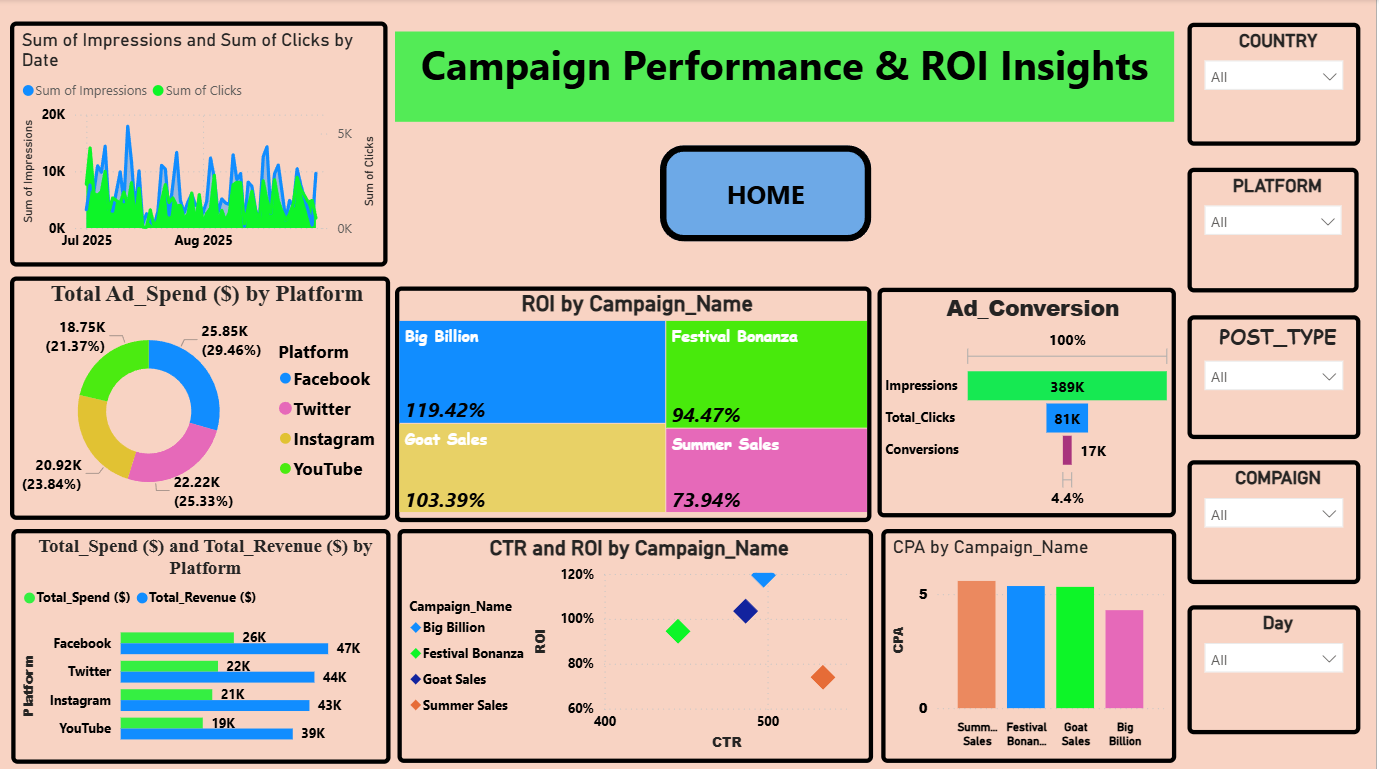

Layout of this report page (visuals, bound fields, positions):
{"tool":"powerbi","page":{"name":"Page 2","canvas":[1280,720],"ordinal":1},"visuals":[{"type":"donutChart","title":"Total Ad_Spend ($) by Platform","fields":{"Y":["Socia_Media_Campaign.Total_Spend ($)"],"Category":["Socia_Media_Campaign.Platform"]},"box":[9.3,258.1,353.5,226.7],"z":1000},{"type":"treemap","fields":{"Group":["Socia_Media_Campaign.Campaign_Name"],"Values":["Socia_Media_Campaign.ROI"]},"box":[368,268,443,219],"z":2000},{"type":"clusteredBarChart","fields":{"Y":["Socia_Media_Campaign.Total_Spend ($)","Socia_Media_Campaign.Total_Revenue ($)"],"Category":["Socia_Media_Campaign.Platform"]},"box":[10.5,493,353,218],"z":3000},{"type":"funnel","title":"Ad_Conversion","fields":{"Y":["Sum(Socia_Media_Campaign.Impressions)","Socia_Media_Campaign.Total_Clicks","Sum(Socia_Media_Campaign.Conversions)"]},"box":[816.3,268.6,277.9,214],"z":4000},{"type":"scatterChart","fields":{"X":["Socia_Media_Campaign.CTR"],"Y":["Socia_Media_Campaign.ROI"],"Series":["Socia_Media_Campaign.Campaign_Name"]},"box":[370,493,442,217.4],"z":5000},{"type":"slicer","title":"PLATFORM","fields":{"Values":["Socia_Media_Campaign.Platform"]},"box":[1104.7,157,159.3,116.3],"z":6000},{"type":"slicer","title":"COUNTRY","fields":{"Values":["Socia_Media_Campaign.Country"]},"box":[1104.7,22,160.9,114.1],"z":7000},{"type":"slicer","title":"COMPAIGN","fields":{"Values":["Socia_Media_Campaign.Campaign_Name"]},"box":[1104.7,429,160.5,115.1],"z":8000},{"type":"slicer","title":"POST_TYPE","fields":{"Values":["Socia_Media_Campaign.Post_Type"]},"box":[1104.7,294.2,160.5,115.1],"z":9000},{"type":"slicer","title":"Day","fields":{"Values":["Socia_Media_Campaign.Date"]},"box":[1104.7,564,160.5,119.8],"z":10000},{"type":"actionButton","box":[614,136,196.5,89.5],"z":11000},{"type":"clusteredColumnChart","fields":{"Category":["Socia_Media_Campaign.Campaign_Name"],"Y":["Socia_Media_Campaign.CPA"]},"box":[819.8,493,274.4,217.4],"z":12000},{"type":"areaChart","fields":{"Y":["Sum(Socia_Media_Campaign.Impressions)"],"Y2":["Sum(Socia_Media_Campaign.Clicks)"],"Category":["Socia_Media_Campaign.Date"]},"box":[9.3,20.9,351.2,227.9],"z":13000},{"type":"textbox","box":[367.4,30.2,725,84],"z":14000}]}

Visuals, with their boxes in screenshot pixels (x1, y1, x2, y2), scaled from the page's 1280x720 canvas onto the 1379x769 screenshot:
"Total Ad_Spend ($) by Platform" donutChart: <box>10,276,391,518</box>
treemap - Socia_Media_Campaign.Campaign_Name x Socia_Media_Campaign.ROI: <box>396,286,874,520</box>
clusteredBarChart - Socia_Media_Campaign.Total_Spend ($) x Socia_Media_Campaign.Total_Revenue ($): <box>11,527,392,759</box>
"Ad_Conversion" funnel: <box>879,287,1179,515</box>
scatterChart - Socia_Media_Campaign.CTR x Socia_Media_Campaign.ROI: <box>399,527,875,759</box>
"PLATFORM" slicer: <box>1190,168,1362,292</box>
"COUNTRY" slicer: <box>1190,23,1363,145</box>
"COMPAIGN" slicer: <box>1190,458,1363,581</box>
"POST_TYPE" slicer: <box>1190,314,1363,437</box>
"Day" slicer: <box>1190,602,1363,730</box>
actionButton: <box>661,145,873,241</box>
clusteredColumnChart - Socia_Media_Campaign.Campaign_Name x Socia_Media_Campaign.CPA: <box>883,527,1179,759</box>
areaChart - Sum(Socia_Media_Campaign.Impressions) x Sum(Socia_Media_Campaign.Clicks): <box>10,22,388,266</box>
textbox: <box>396,32,1177,122</box>
